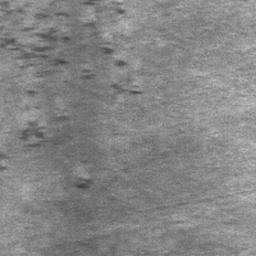Rolled in scale: (0, 0, 71, 78), (83, 22, 142, 96), (19, 90, 69, 149), (74, 178, 91, 190), (0, 155, 9, 171), (81, 70, 95, 80), (115, 3, 126, 15), (83, 0, 101, 6)
